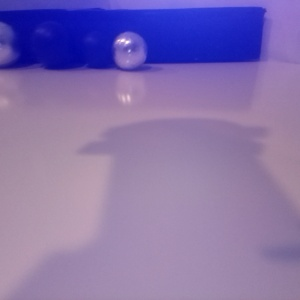alive_ball: (198, 51, 300, 212)
dead_ball: (107, 14, 170, 81), (285, 35, 300, 72)
